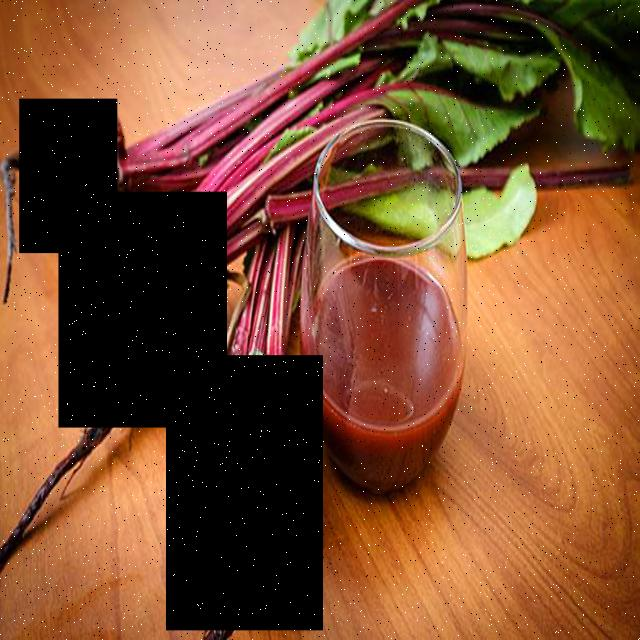Beetroot: (166, 356, 324, 630), (59, 192, 227, 428), (19, 99, 118, 254)
